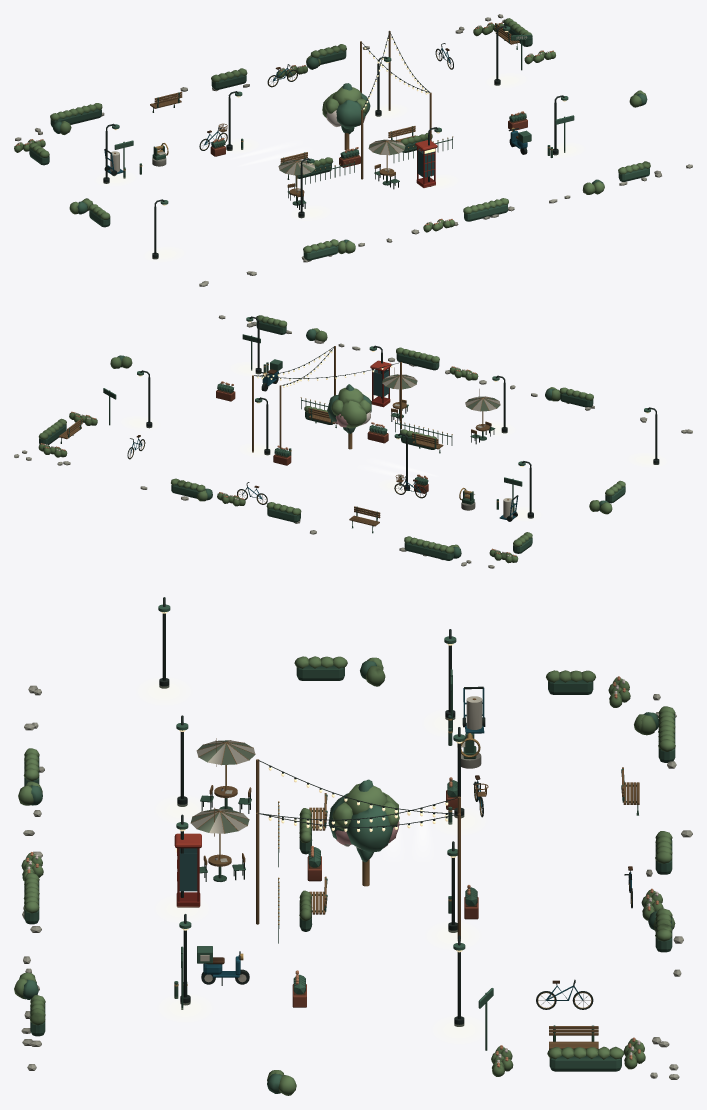
The model's file is town-props.glb.
The picture shows the model from 3 angles, top to bottom: view 1: azimuth 30°, elevation 25°; view 2: azimuth 150°, elevation 25°; view 3: azimuth 270°, elevation 25°; orthographic projection. The views are drawn at different scales.
Visible parts, largest first — view 1: town_props_matte, tree_deciduous, town_props_pool_glow, town_car_lights_headlight_glow; view 2: town_props_matte, tree_deciduous, town_props_pool_glow; view 3: town_props_matte, tree_deciduous, town_props_pool_glow, town_car_lights_headlight_glow.
Part boxes in pixels (box(x1,y1,x2,y2)): town_props_matte: box(14, 14, 692, 286); tree_deciduous: box(322, 86, 370, 150); town_props_pool_glow: box(108, 76, 576, 258); town_car_lights_headlight_glow: box(231, 143, 305, 165); town_props_matte: box(14, 315, 692, 568); tree_deciduous: box(327, 387, 371, 449); town_props_pool_glow: box(129, 365, 654, 517); town_props_matte: box(14, 597, 692, 1095); tree_deciduous: box(328, 783, 399, 886); town_props_pool_glow: box(148, 684, 474, 1037); town_car_lights_headlight_glow: box(386, 805, 430, 857).
Bounding box in the file's own units: 33.54 × 4.72 × 22.56.
